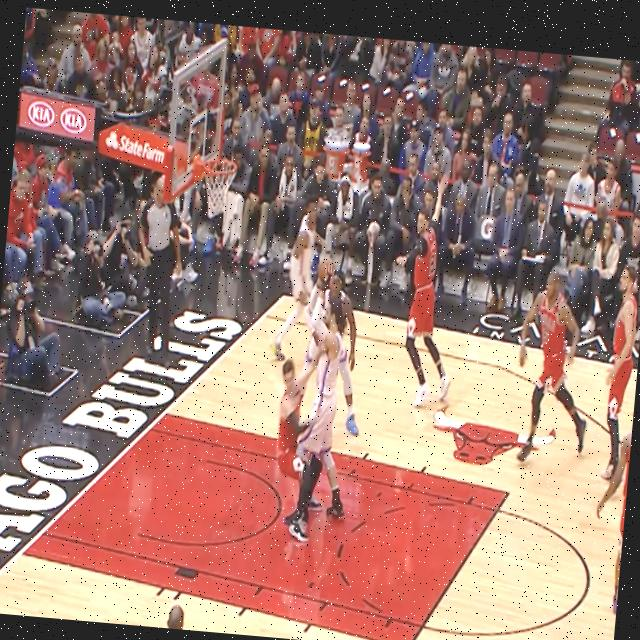foul: (253, 298, 362, 541)
